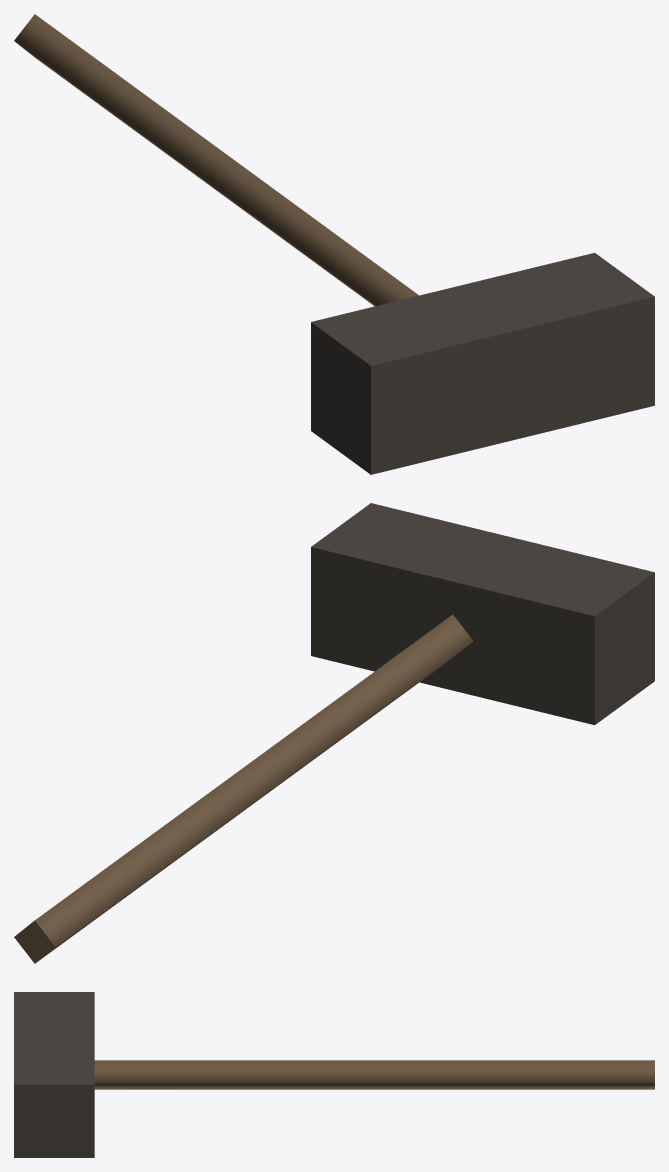
The picture shows the model from 3 angles, top to bottom: view 1: azimuth 30°, elevation 25°; view 2: azimuth 150°, elevation 25°; view 3: azimuth 270°, elevation 25°; orthographic projection. The views are drawn at different scales.
Parts seen in each view (by area): view 1: raider_tool_hammer; view 2: raider_tool_hammer; view 3: raider_tool_hammer.
Part boxes in pixels (x1,y1,x2,y2): raider_tool_hammer: [14, 14, 654, 474]; raider_tool_hammer: [14, 503, 654, 963]; raider_tool_hammer: [14, 992, 654, 1157].
Size of the model in its own units: 0.3 by 0.11 by 0.875.
